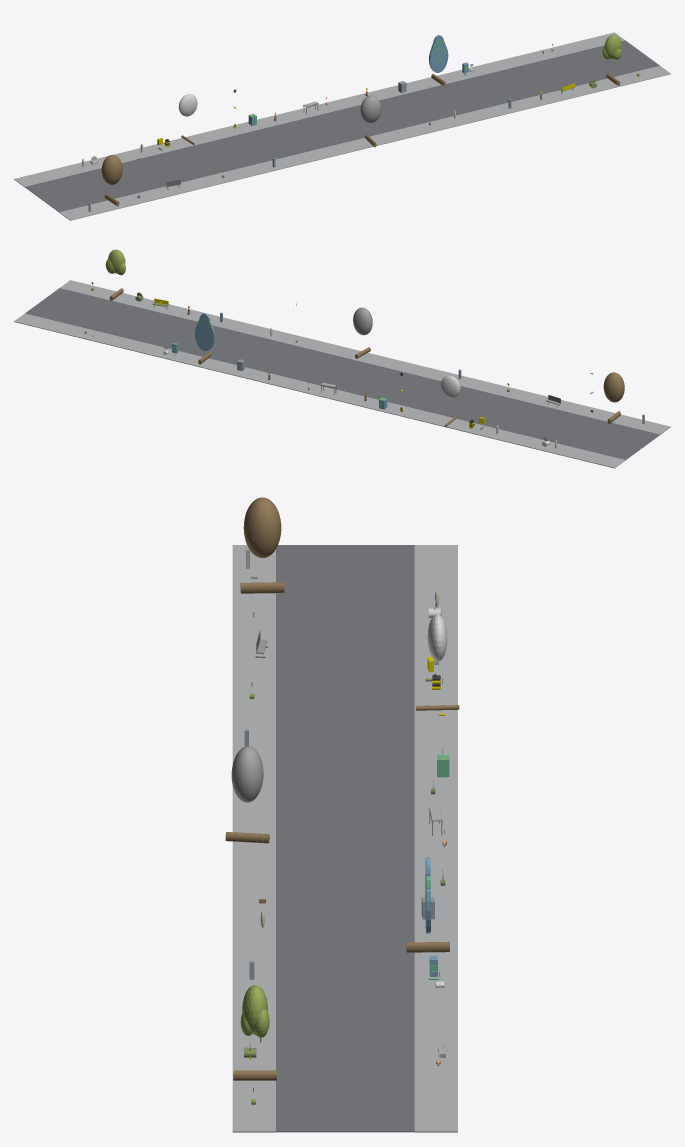
3 renders of one model, top to bottom at view 1: azimuth 30°, elevation 25°; view 2: azimuth 150°, elevation 25°; view 3: azimuth 270°, elevation 25°, orthographic. The views are drawn at different scales.
Parts seen in each view (by area): view 1: road_slab, sidewalk_left, sidewalk_right, inst_0015, inst_0012, inst_0014, inst_0016, inst_0013; view 2: road_slab, sidewalk_right, sidewalk_left, inst_0015, inst_0012, inst_0014, inst_0016, inst_0013; view 3: road_slab, sidewalk_right, sidewalk_left, inst_0012, inst_0014, inst_0016, inst_0013, inst_0015.
Part boxes in pixels (<box>): road_slab: <box>25,40,659,212</box>; sidewalk_left: <box>59,66,670,220</box>; sidewalk_right: <box>14,32,624,187</box>; inst_0015: <box>429,35,448,86</box>; inst_0012: <box>101,155,122,206</box>; inst_0014: <box>360,95,381,147</box>; inst_0016: <box>602,34,621,85</box>; inst_0013: <box>178,94,197,144</box>; road_slab: <box>25,288,659,460</box>; sidewalk_right: <box>14,313,625,468</box>; sidewalk_left: <box>60,280,670,434</box>; inst_0015: <box>195,313,214,364</box>; inst_0012: <box>603,372,624,424</box>; inst_0014: <box>353,307,372,358</box>; inst_0016: <box>105,249,125,300</box>; inst_0013: <box>440,375,460,426</box>; road_slab: <box>276,545,414,1132</box>; sidewalk_right: <box>414,545,457,1132</box>; sidewalk_left: <box>232,545,275,1132</box>; inst_0012: <box>240,497,284,593</box>; inst_0014: <box>225,746,269,843</box>; inst_0016: <box>233,985,276,1080</box>; inst_0013: <box>416,614,459,710</box>; inst_0015: <box>406,857,449,952</box>.
Bounding box in the file's own units: 80 × 6.08 × 13.48.
